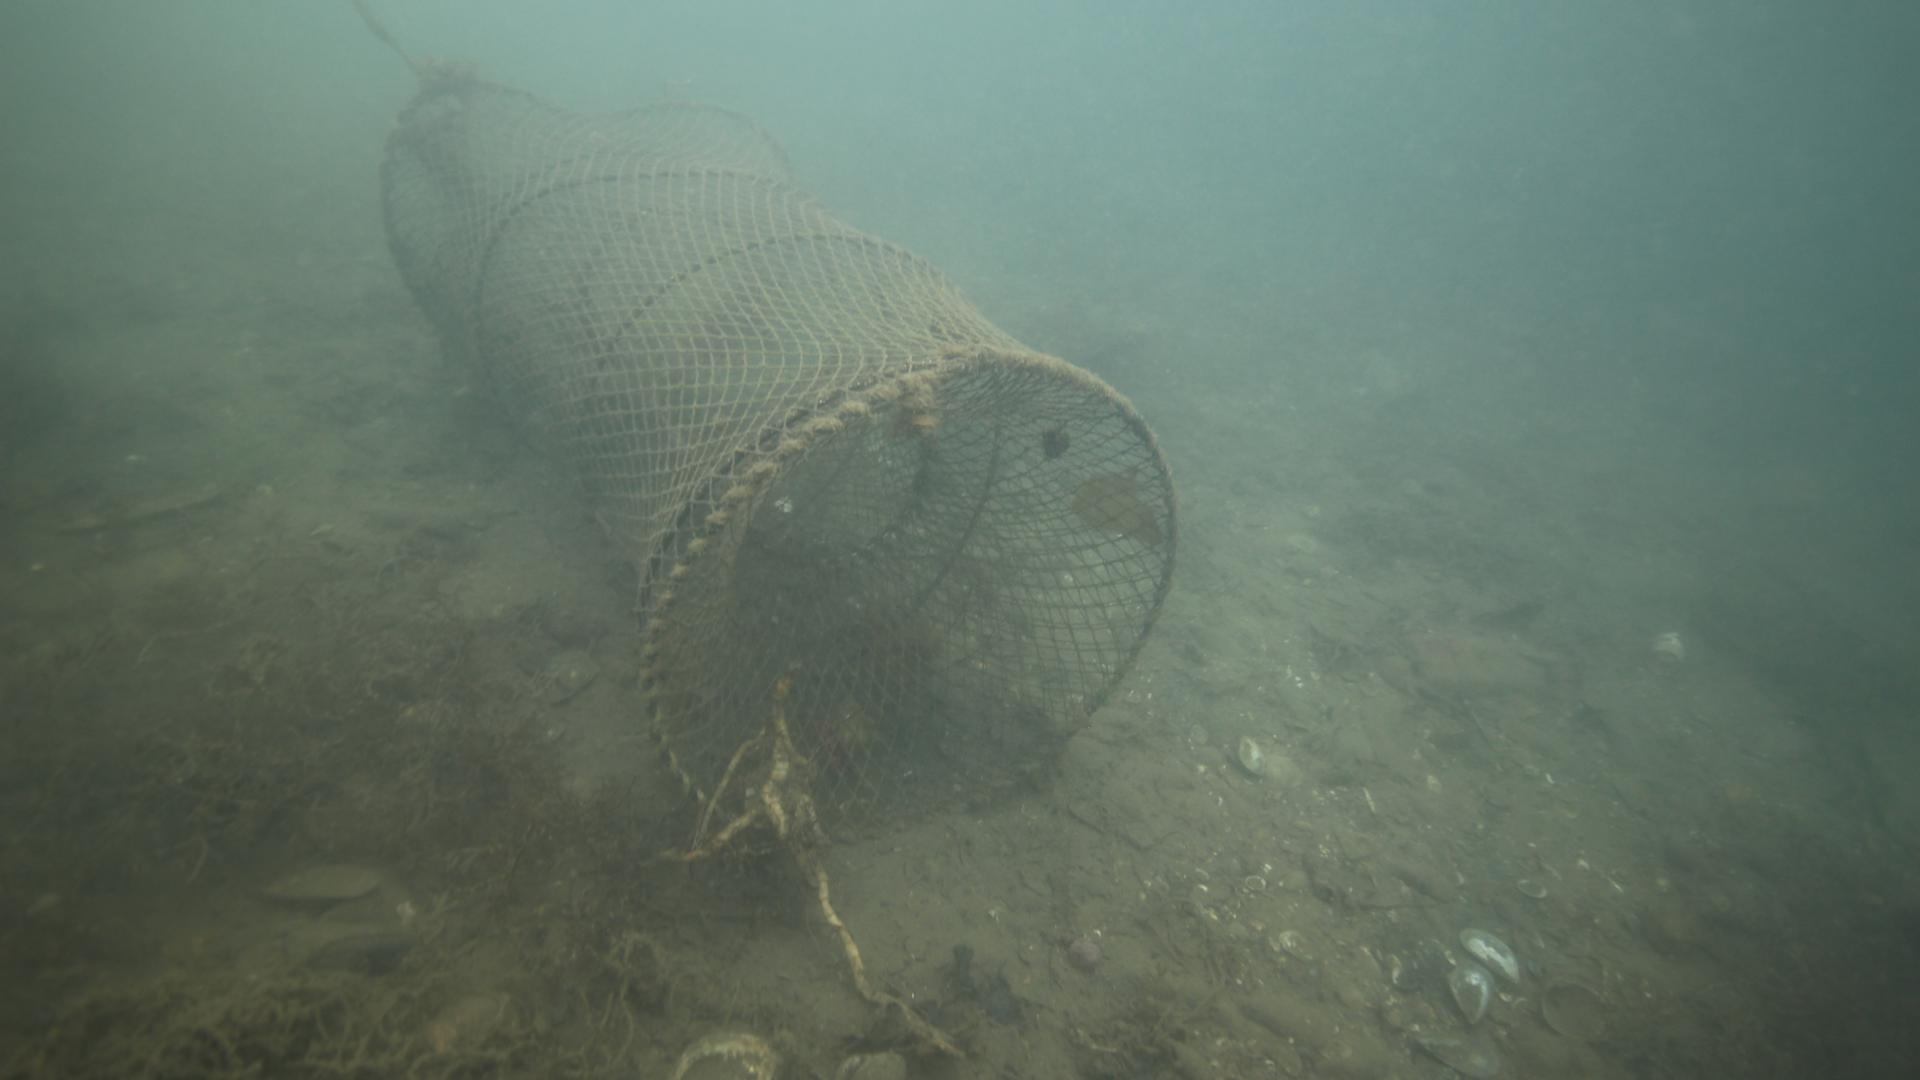spring fish trap: (372, 78, 1184, 848)
